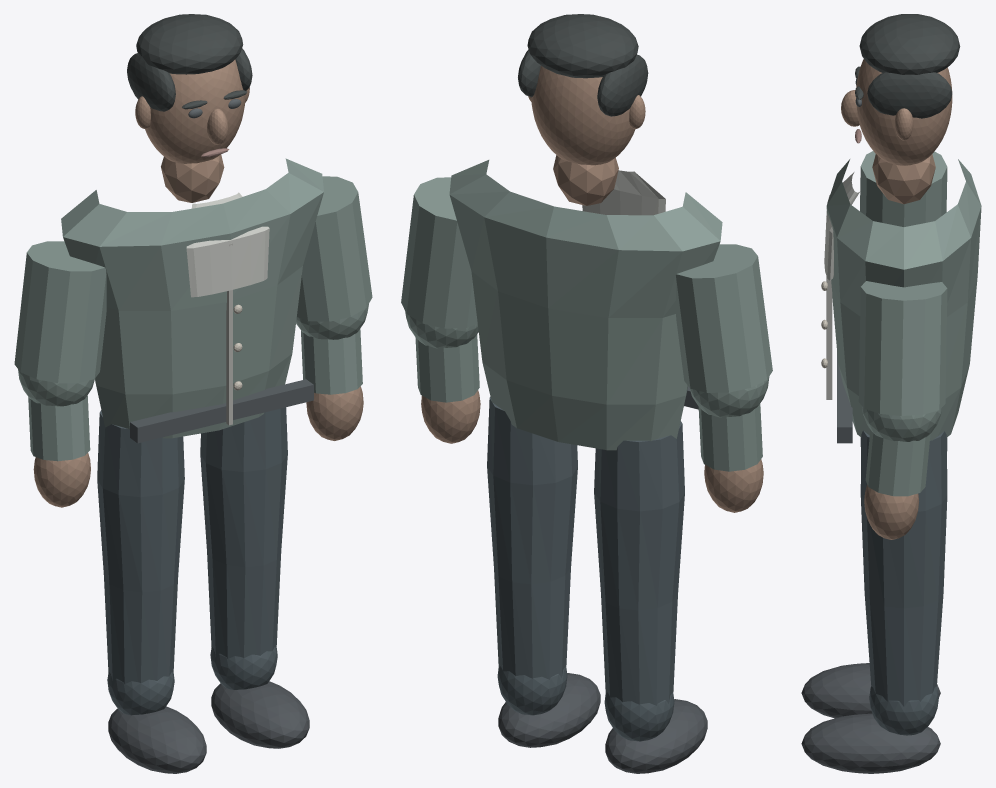
The model's file is pedestrian-3.glb.
3 renders of one model, left to right at view 1: azimuth 30°, elevation 25°; view 2: azimuth 150°, elevation 25°; view 3: azimuth 270°, elevation 25°, orthographic. The views are drawn at different scales.
Parts seen in each view (by area): view 1: torso, leg_L, leg_R, arm_L, head, arm_R; view 2: torso, leg_L, leg_R, arm_L, head, arm_R; view 3: leg_R, torso, arm_R, head, arm_L, leg_L.
Part boxes in pixels (<box>): torso: <box>61,154,323,443</box>; leg_L: <box>97,410,206,773</box>; leg_R: <box>200,407,309,748</box>; arm_L: <box>14,241,106,507</box>; head: <box>127,14,252,163</box>; arm_R: <box>296,176,372,440</box>; torso: <box>449,155,722,450</box>; leg_L: <box>594,421,707,773</box>; leg_R: <box>487,397,600,747</box>; arm_L: <box>675,244,772,512</box>; head: <box>518,14,648,165</box>; arm_R: <box>401,177,480,443</box>; leg_R: <box>801,430,947,773</box>; torso: <box>821,154,981,443</box>; arm_R: <box>858,281,947,539</box>; head: <box>841,14,960,165</box>; arm_L: <box>860,151,947,226</box>; leg_L: <box>801,437,947,718</box>.
Size of the model in its own units: 1.04 by 2.05 by 0.465.
